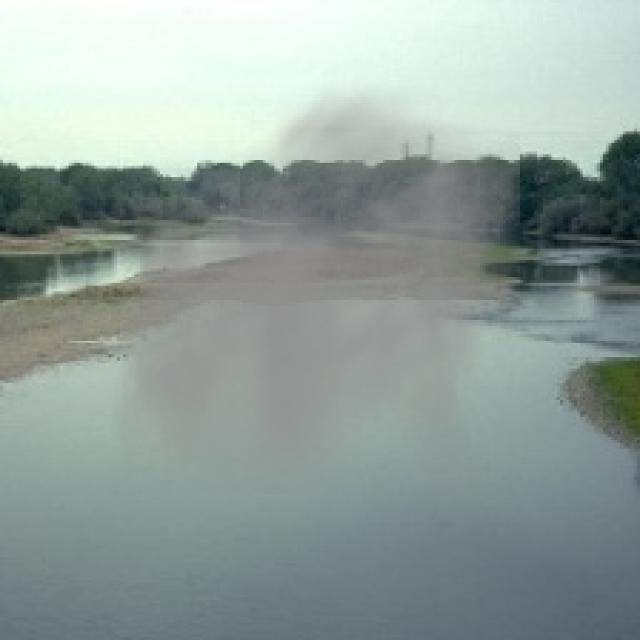Smoke: (111, 72, 520, 494)
